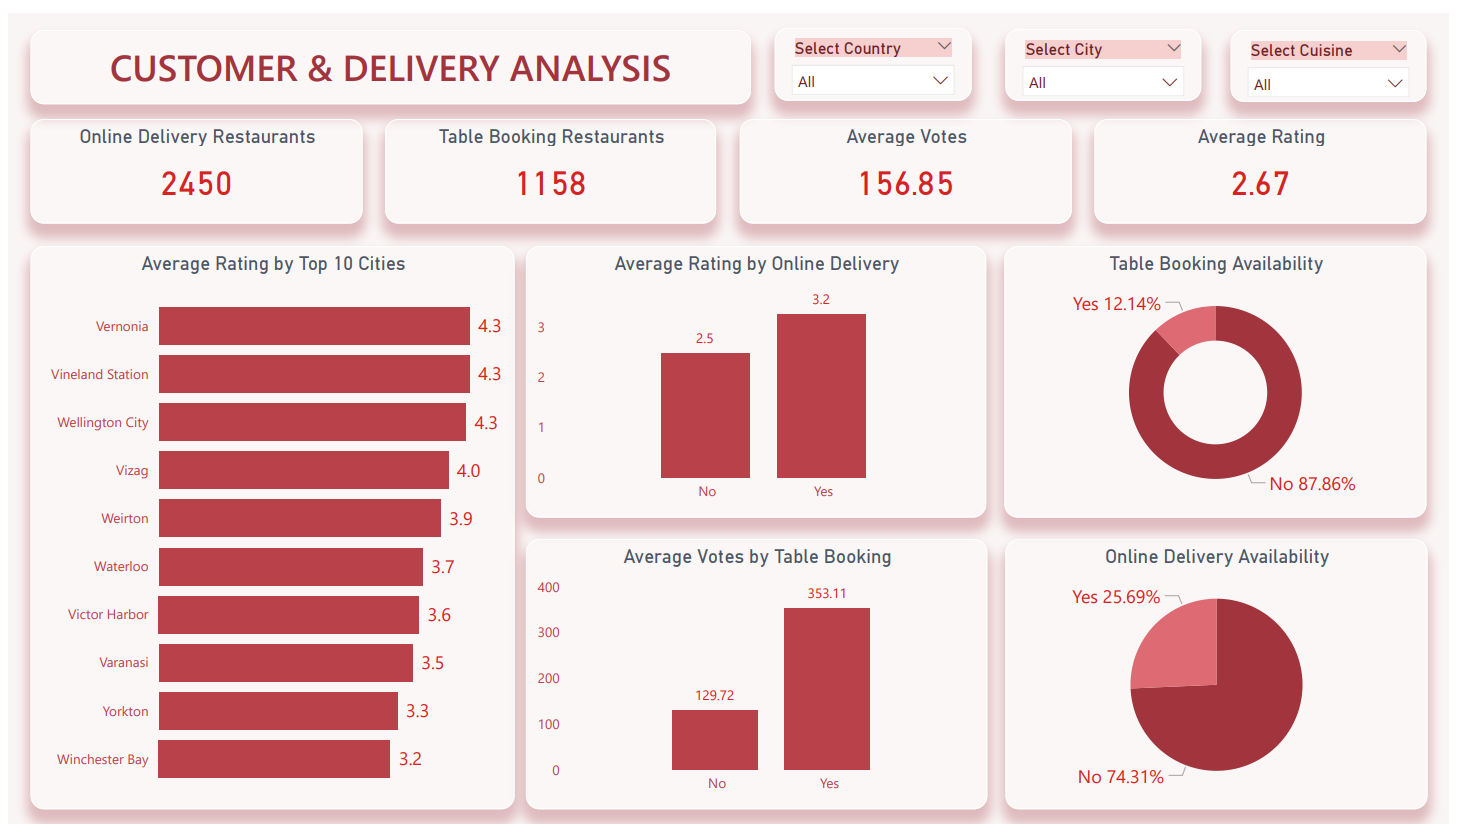

Layout of this report page (visuals, bound fields, positions):
{"tool":"powerbi","page":{"name":"CUSTOMER & DELIVERY ANALYSIS","canvas":[1280,720],"ordinal":2},"visuals":[{"type":"textbox","box":[19.8,15.1,640.7,66.3],"z":0},{"type":"slicer","fields":{"Values":["Dataset  (1).City"]},"box":[886,14,174.4,64],"z":1000},{"type":"slicer","fields":{"Values":["Country.Country Name"]},"box":[681.4,12.8,174.4,65.1],"z":2000},{"type":"slicer","fields":{"Values":["Dataset  (1).Cuisines"]},"box":[1086,15.1,174.4,64],"z":3000},{"type":"card","title":"Online Delivery Restaurants","fields":{"Values":["Country.Online Delivery Count"]},"box":[19.8,94.2,295.3,93],"z":4000},{"type":"card","title":"Table Booking Restaurants","fields":{"Values":["Country.Table Booking Count"]},"box":[334.9,94.2,294.2,93],"z":5000},{"type":"card","title":"Average Votes","fields":{"Values":["Country.Average Votes"]},"box":[650,94.2,295.3,93],"z":6000},{"type":"card","title":"Average Rating","fields":{"Values":["Dataset  (1).Average Rating"]},"box":[965.1,94.2,295.3,93],"z":7000},{"type":"pieChart","title":"Online Delivery Availability","fields":{"Category":["Dataset  (1).Online Delivery"],"Y":["CountNonNull(Dataset  (1).Restaurant Name)"]},"box":[886,467.4,375,240],"z":8000},{"type":"donutChart","title":"Table Booking Availability","fields":{"Category":["Dataset  (1).Table Booking"],"Y":["CountNonNull(Dataset  (1).Restaurant Name)"]},"box":[884.9,207,375.6,240.7],"z":9000},{"type":"clusteredColumnChart","title":"Average Rating by Online Delivery","fields":{"Category":["Dataset  (1).Online Delivery"],"Y":["Avg(Dataset  (1).Rating)"]},"box":[460.5,207,409,240.7],"z":10000},{"type":"clusteredColumnChart","title":"Average Votes by Table Booking","fields":{"Category":["Dataset  (1).Table Booking"],"Y":["Avg(Dataset  (1).Votes)"]},"box":[460.5,467.4,409.3,240],"z":11000},{"type":"clusteredBarChart","title":"Average Rating by Top 10 Cities","fields":{"Category":["Dataset  (1).City"],"Y":["Avg(Dataset  (1).Rating)"]},"box":[19.8,207,430.2,500],"z":12000}]}

Visuals, with their boxes in screenshot pixels (x1, y1, x2, y2), scaled from the page's 1280x720 canvas onto the 1457x833 screenshot:
textbox: rect(23, 17, 752, 94)
slicer - Dataset  (1).City: rect(1009, 16, 1207, 90)
slicer - Country.Country Name: rect(776, 15, 974, 90)
slicer - Dataset  (1).Cuisines: rect(1236, 17, 1435, 92)
"Online Delivery Restaurants" card: rect(23, 109, 359, 217)
"Table Booking Restaurants" card: rect(381, 109, 716, 217)
"Average Votes" card: rect(740, 109, 1076, 217)
"Average Rating" card: rect(1099, 109, 1435, 217)
"Online Delivery Availability" pieChart: rect(1009, 541, 1435, 818)
"Table Booking Availability" donutChart: rect(1007, 239, 1435, 518)
"Average Rating by Online Delivery" clusteredColumnChart: rect(524, 239, 990, 518)
"Average Votes by Table Booking" clusteredColumnChart: rect(524, 541, 990, 818)
"Average Rating by Top 10 Cities" clusteredBarChart: rect(23, 239, 512, 818)
